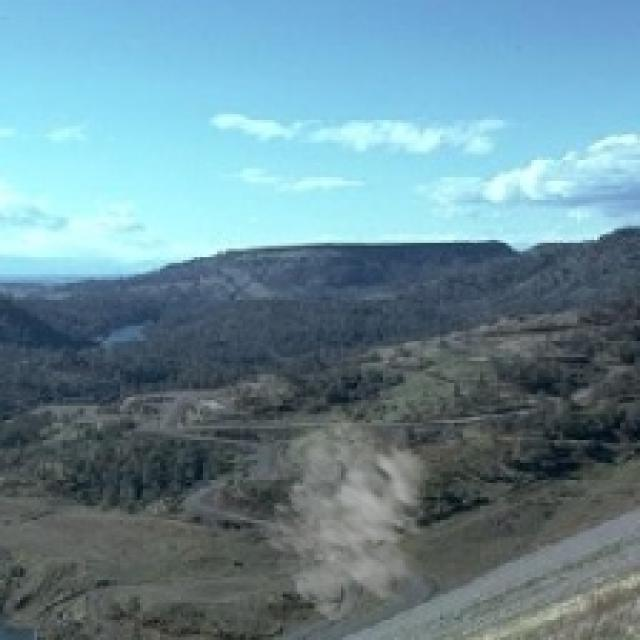Smoke: (257, 406, 466, 634)
